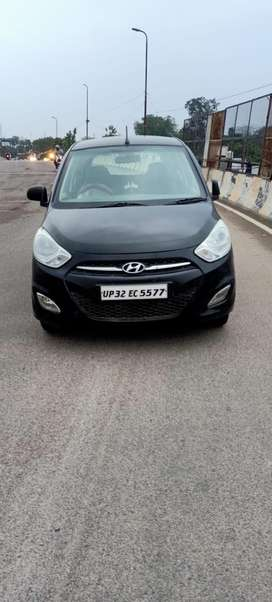UP32EC5577: (99, 282, 167, 300)
